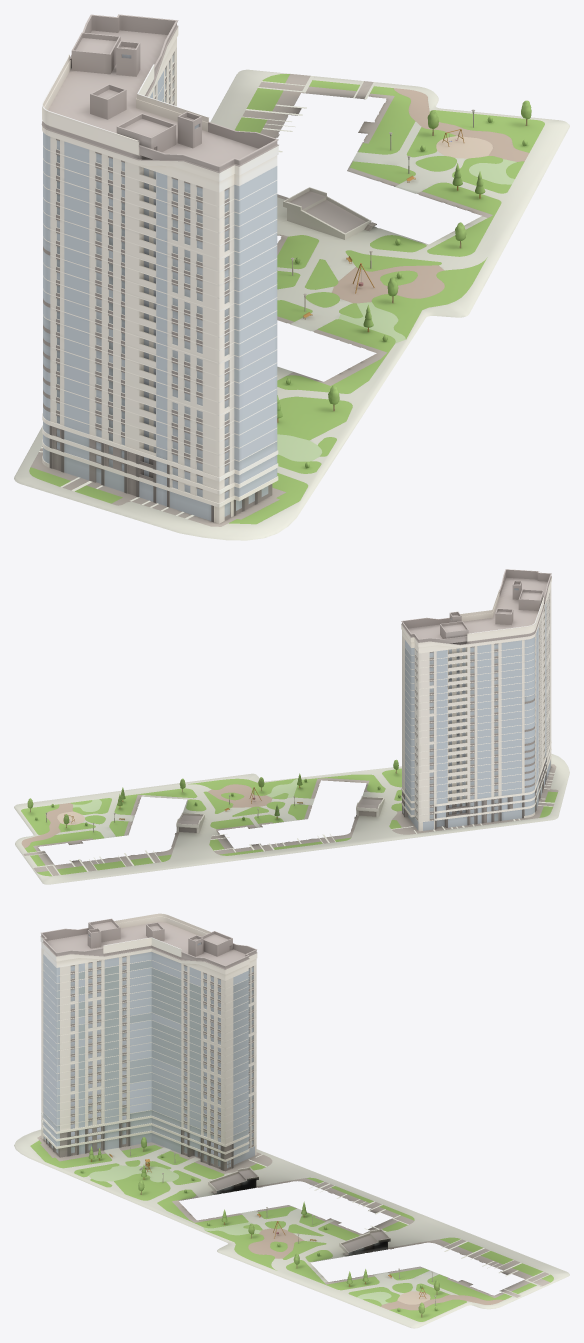
Rendered from SakuraPark_day_night_1.glb.
The picture shows the model from 3 angles, top to bottom: view 1: azimuth 30°, elevation 25°; view 2: azimuth 150°, elevation 25°; view 3: azimuth 270°, elevation 25°; orthographic projection. The views are drawn at different scales.
Parts seen in each view (by area): view 1: BUILDING_1.012, ground_0.003; view 2: BUILDING_1.012, ground_0.003; view 3: BUILDING_1.012, ground_0.003.
Part boxes in pixels (x1,y1,x2,y2): BUILDING_1.012: (41, 14, 278, 523); ground_0.003: (14, 69, 569, 540); BUILDING_1.012: (401, 569, 551, 831); ground_0.003: (14, 753, 569, 884); BUILDING_1.012: (40, 913, 257, 1171); ground_0.003: (14, 1129, 569, 1328).
Size of the model in its own units: 188 by 85.48 by 202.
Materials: 2 (2 with a texture image).
